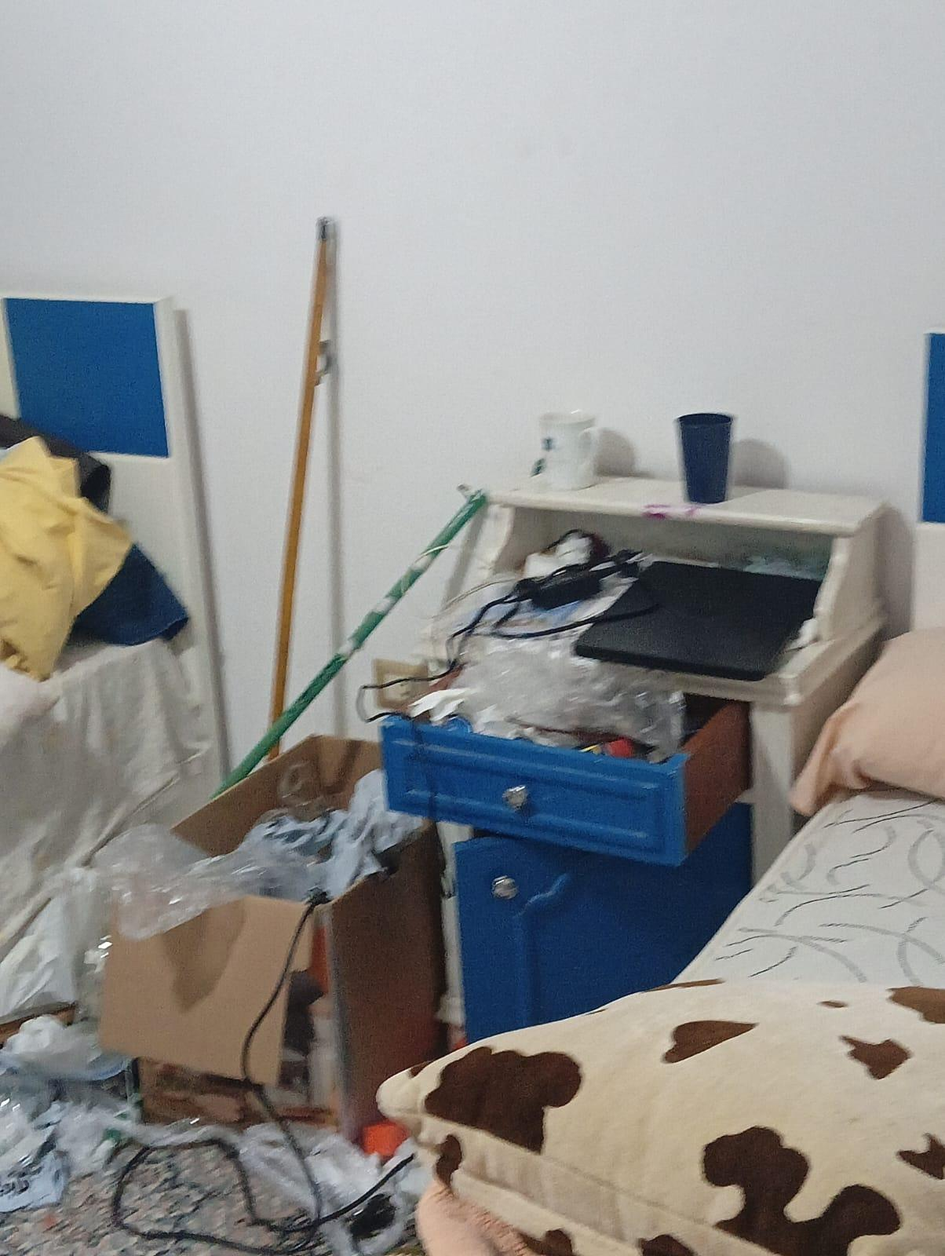cup: (677, 413, 732, 502), (538, 411, 595, 489)
